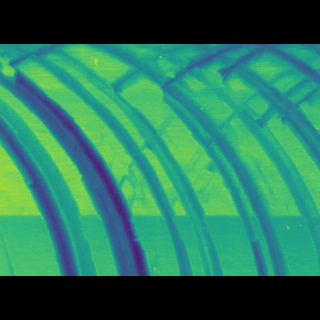Loch: (25, 81, 224, 244), (0, 86, 154, 244), (160, 99, 293, 244), (0, 117, 100, 244), (226, 78, 319, 168)
